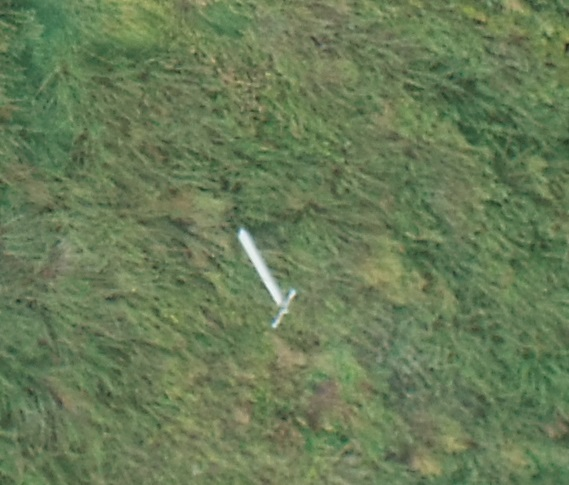opora: (238, 224, 298, 329)
